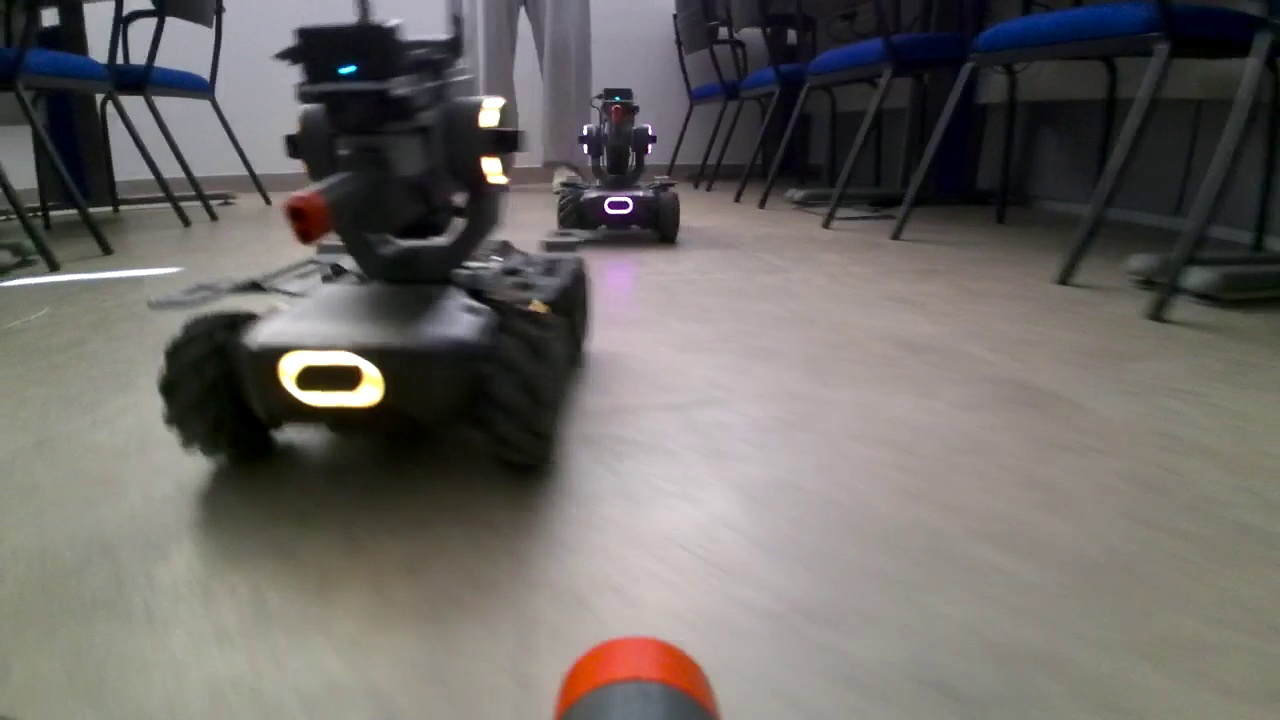robot: (150, 20, 579, 463), (554, 79, 682, 244)
